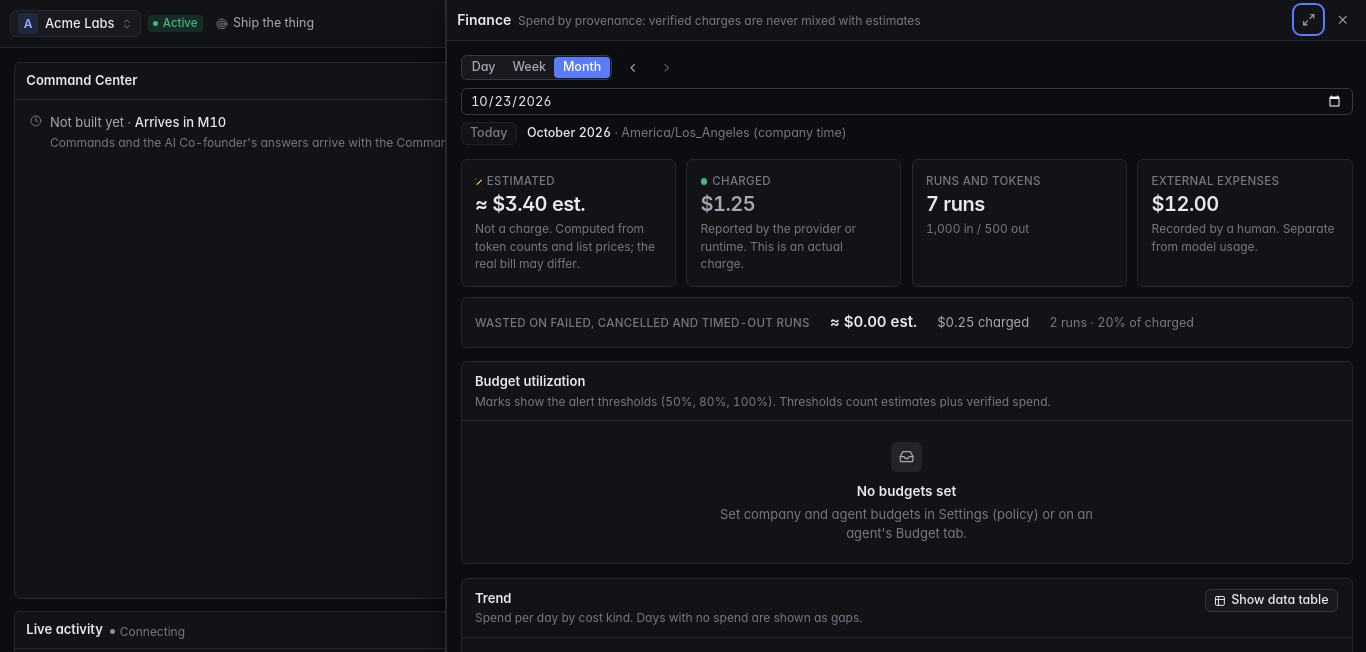
Test: Finance periods in company time › steps back and forward, never past the current period
Expected: the text "October 2026" is shown, [527,125,611,140]
Expected: the button named "Next month" is disabled, [653,54,680,81]
Click the button named "Previous month" at (633, 68), box [619,54,646,81]
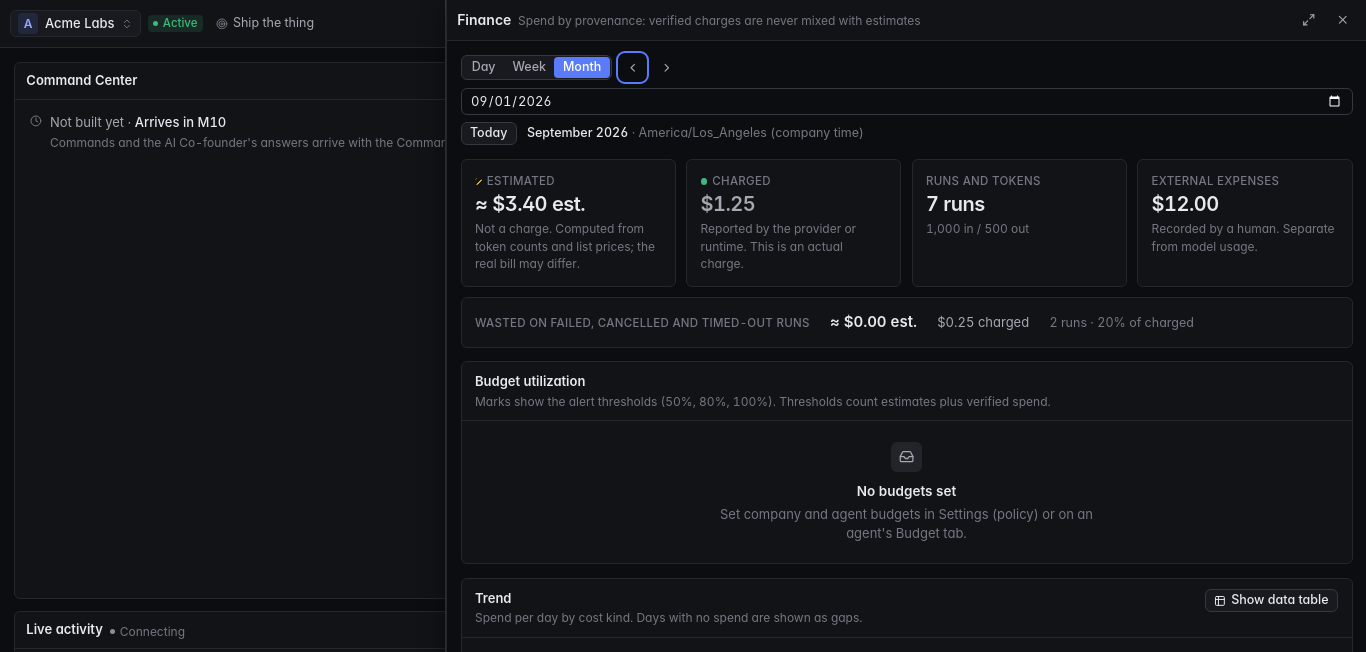
Now the text "September 2026" is shown, box [527,125,628,140]
Click the button named "Next month" at (666, 68), box [653,54,680,81]
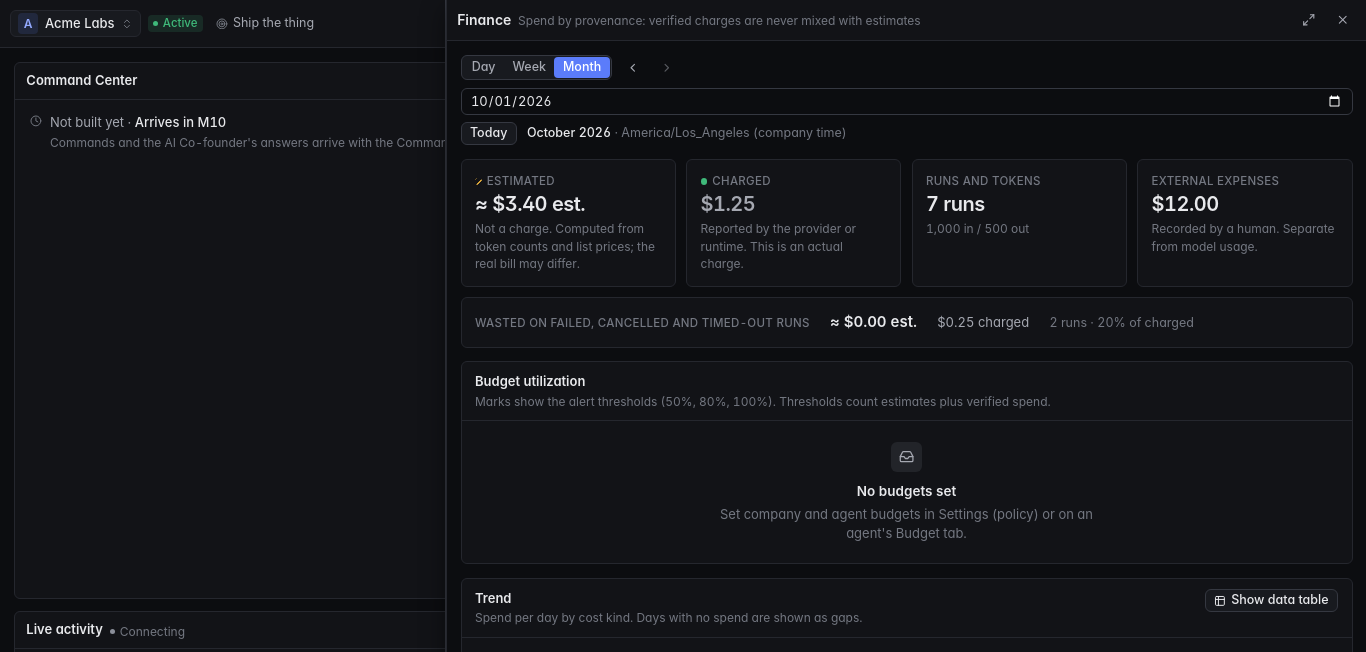
Now the text "October 2026" is shown, box [527,125,611,140]
Note: back on October, but anchored on the 1st, so "Today" is available until it is used
Click the button "Today" at (489, 133), box [460,122,517,145]
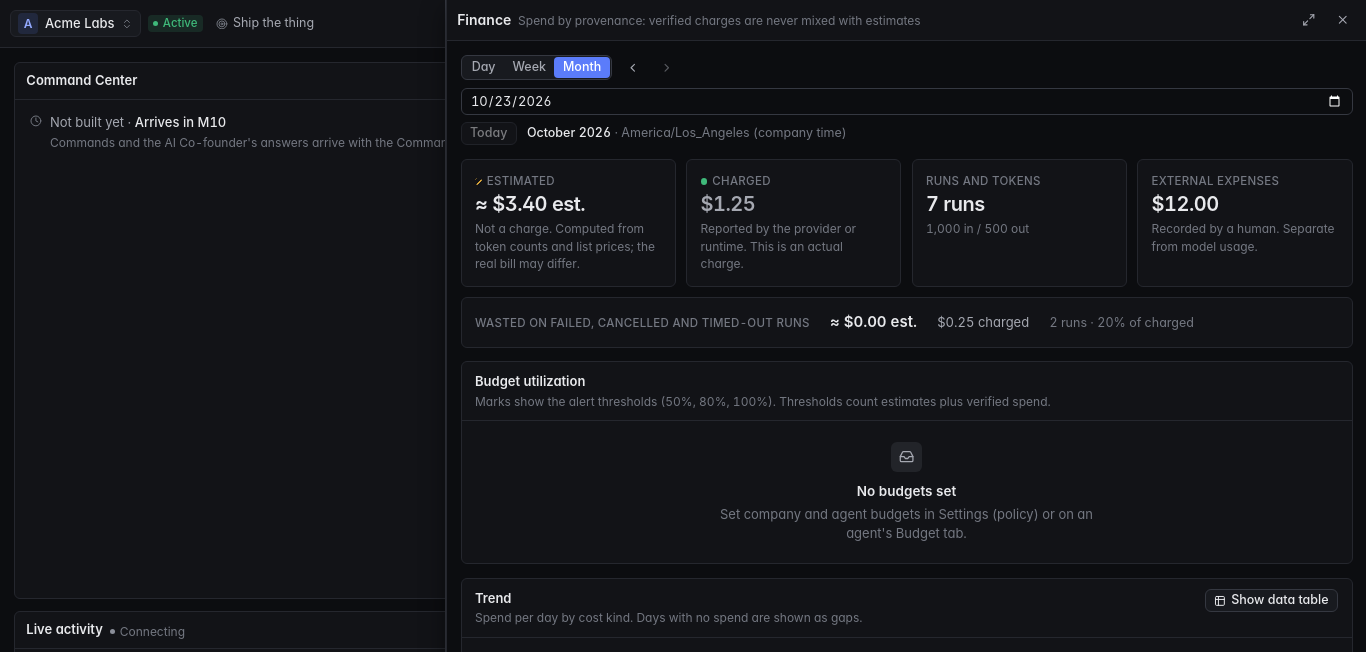
Now the button "Today" is disabled, box [460,122,517,145]
